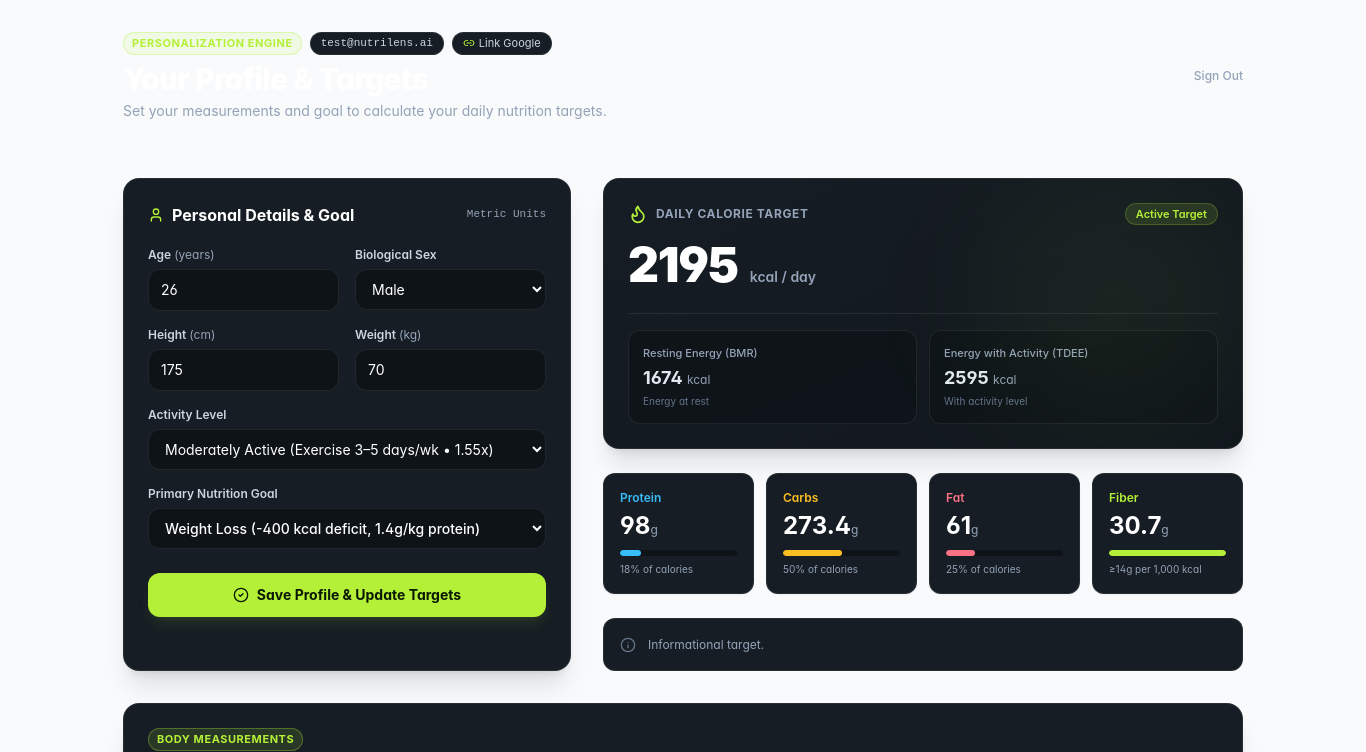
Scenario: Profile Component - Biometric Inputs & Target Calculations › 8. Failed saves show an error without silently discarding user edits
Type "79.2" into the field labelled "Weight (kg)".
click(450, 370); type("79.2")  # box [355, 348, 546, 390]
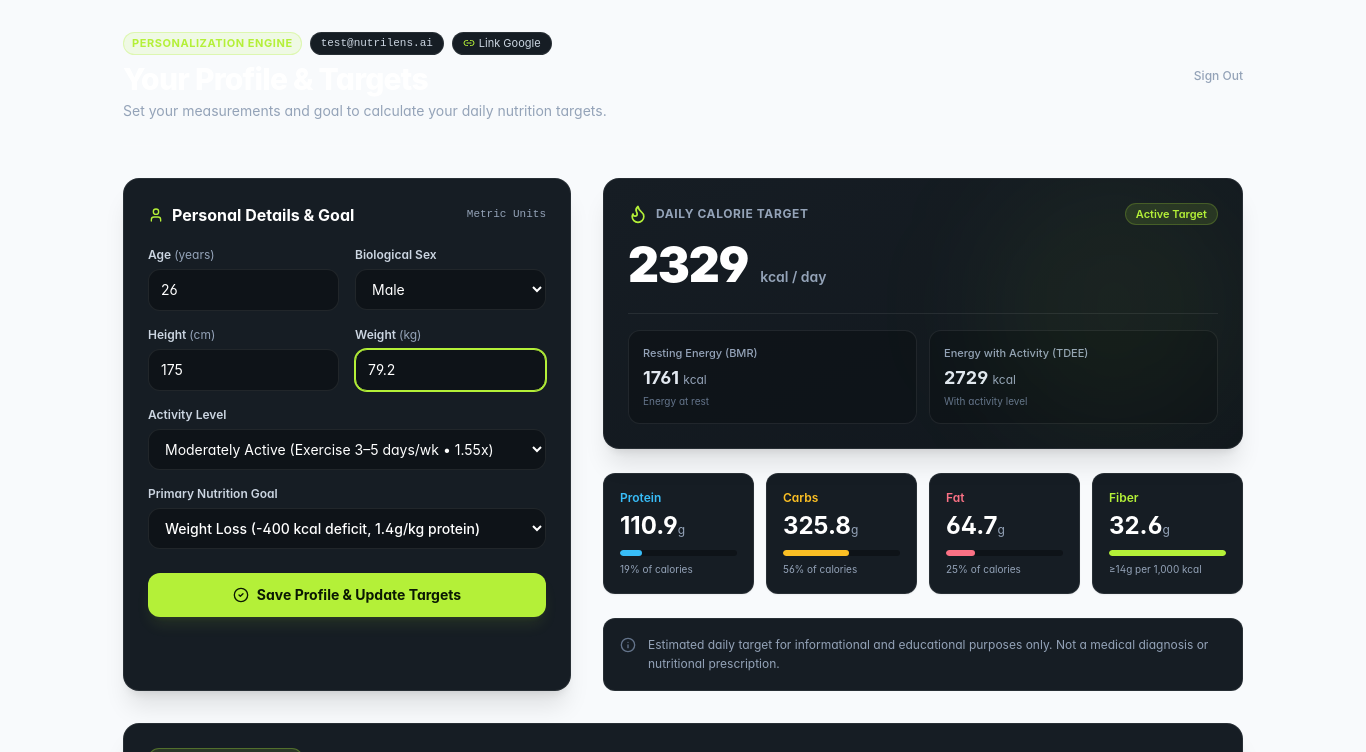
Click the button "Save Profile & Update Targets".
click(347, 594)  # box [148, 572, 546, 616]
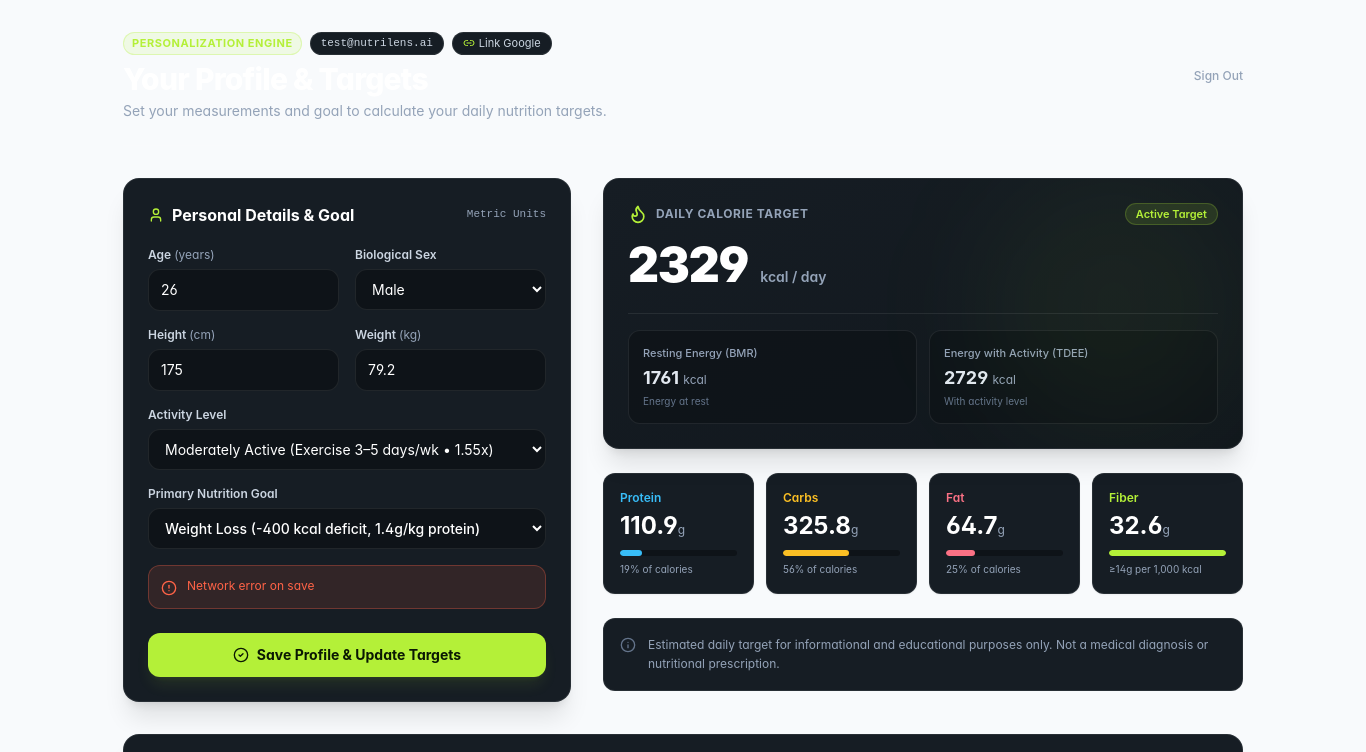
Expected: the text "Network error on save" is shown, [187, 578, 315, 594]
